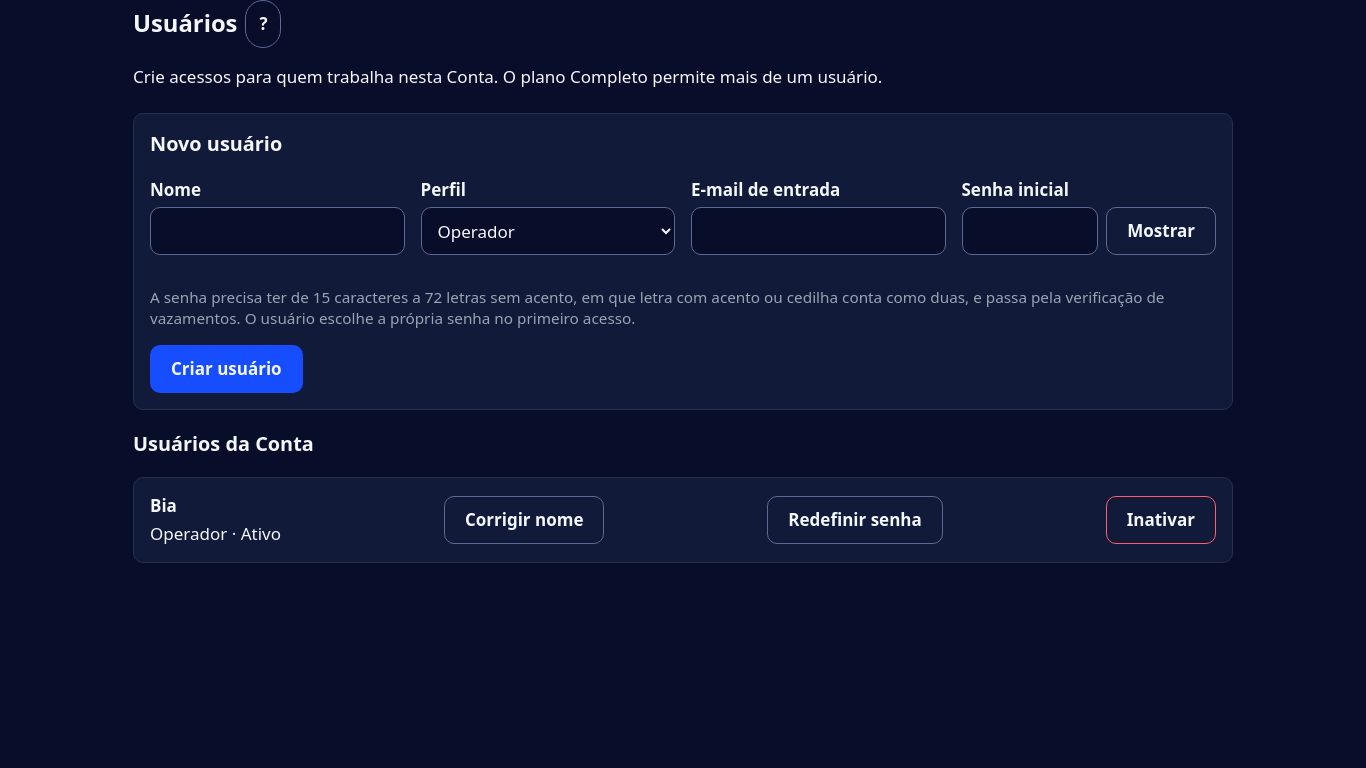
it: administração na tela › com o registro de remoções fora do ar, diz que o login ficou e oferece concluir a inativação
Expected: the text "Bia" is shown, [150, 494, 177, 517]
Click the button "Inativar".
click(1161, 520)  # box [1106, 496, 1216, 544]
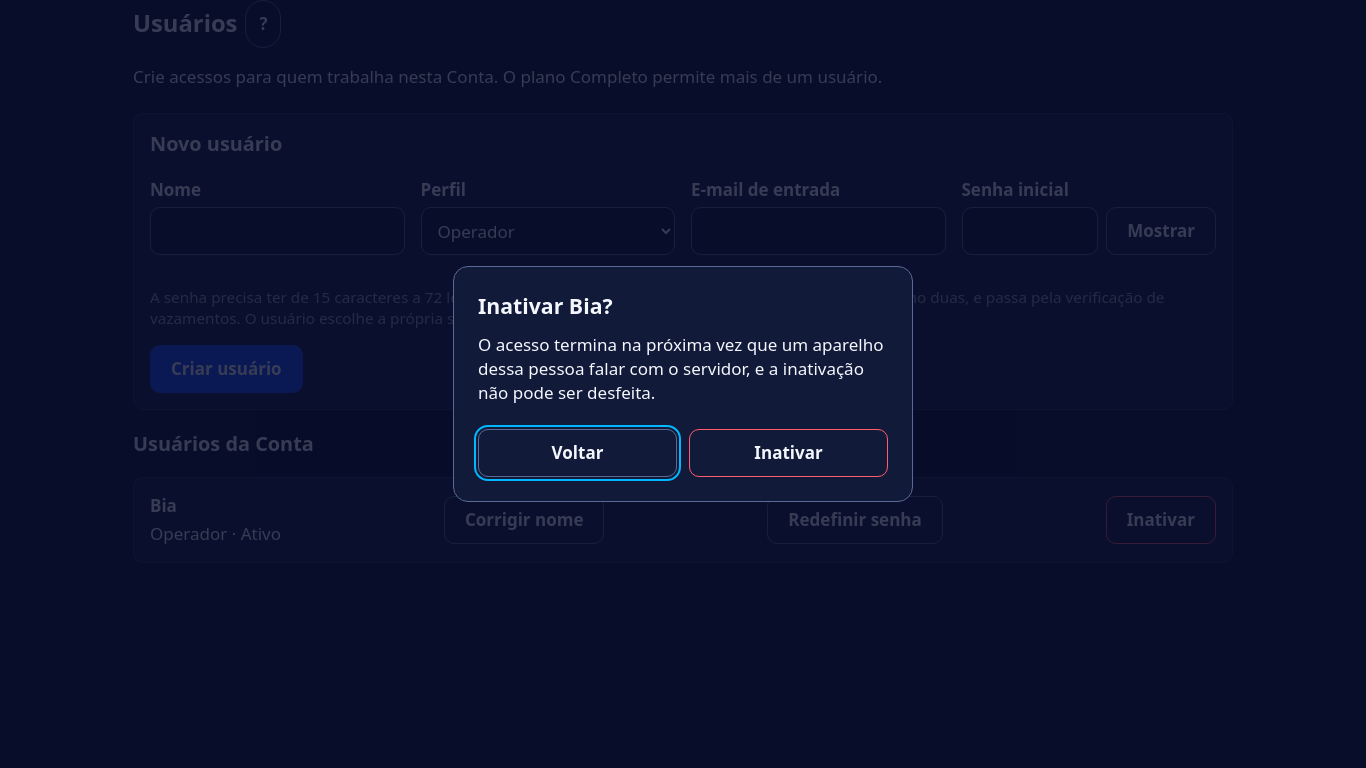
Click the button "Inativar".
click(788, 453)  # box [689, 429, 888, 477]
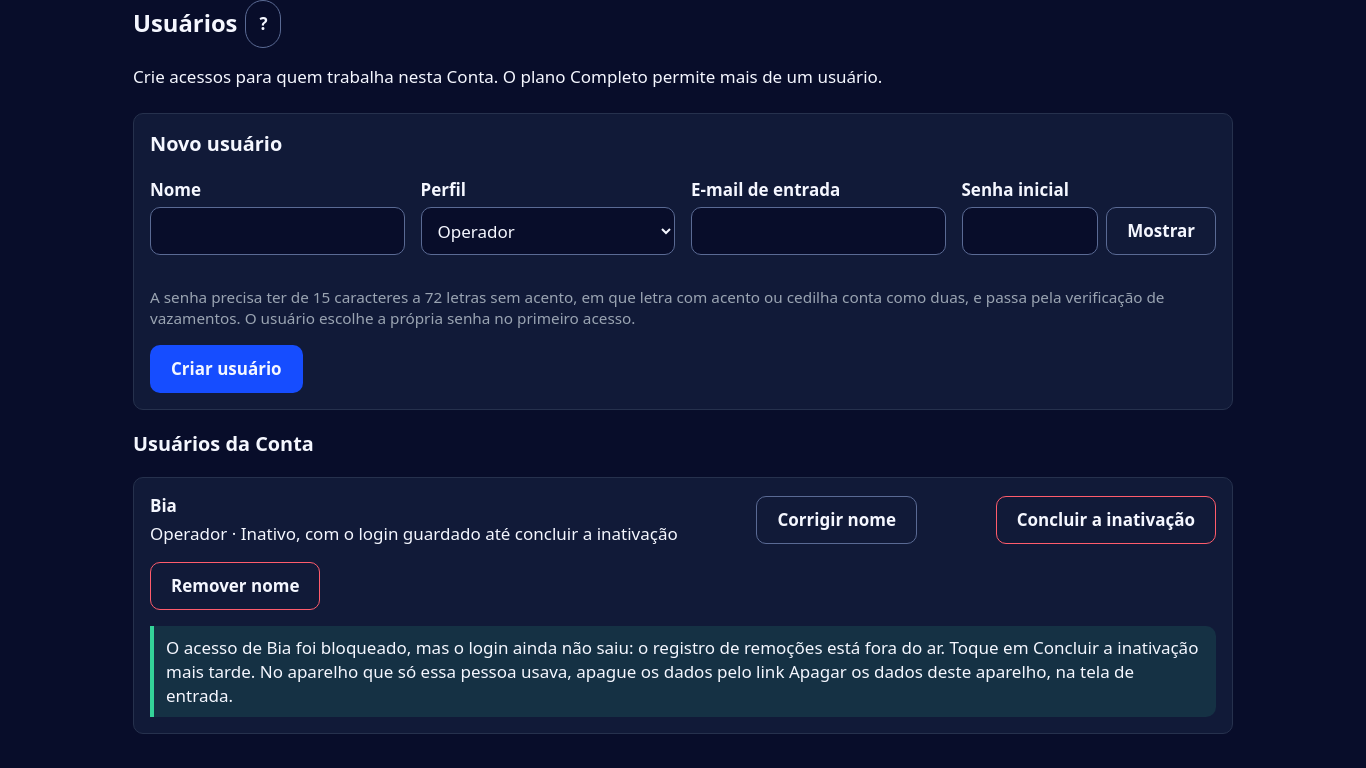
Expected: the text "Inativo, com o login guardado até concluir a inativação" is shown, [241, 522, 678, 545]
Click the button "Concluir a inativação".
click(1106, 520)  # box [996, 496, 1216, 544]
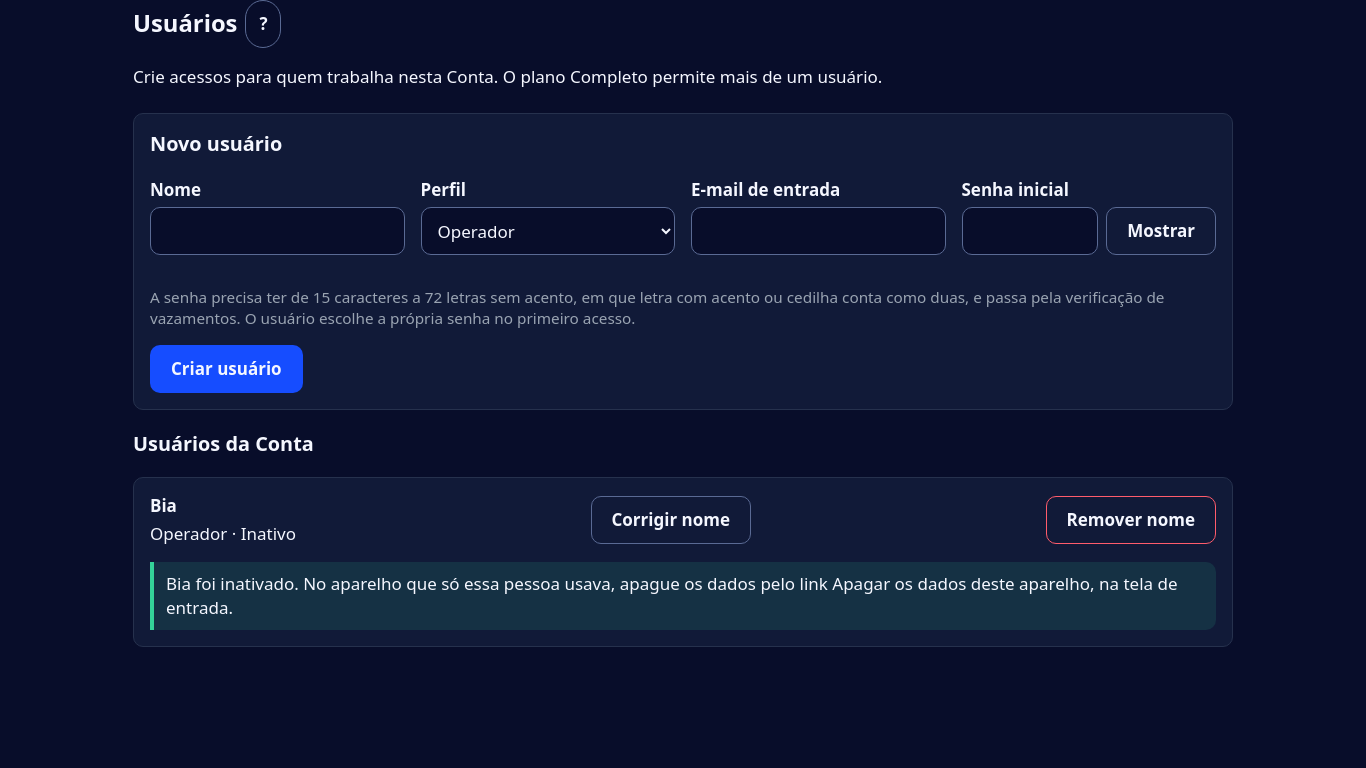
Expected: the message shows "Bia foi inativado.", [166, 572, 1178, 619]
Expected: the text "concluir a inativação" is gone
